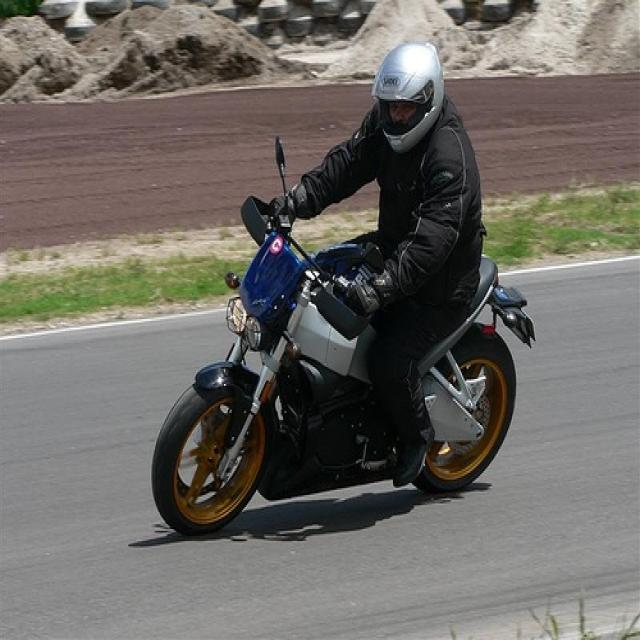motorbike: (151, 139, 537, 539)
person: (262, 40, 486, 489)
